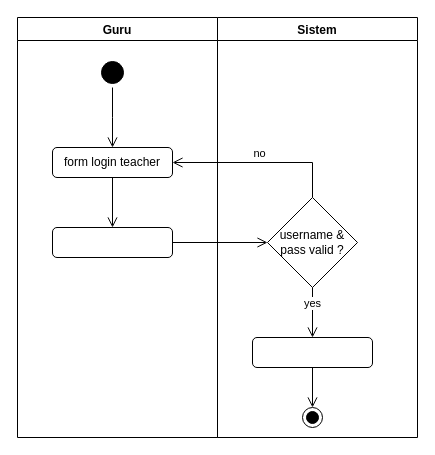
Some shapes in this 435 by 455 pixel diagram are drawn without their labels. Each missing label, with the centre of its shape:
"guru dashboard" goes at (312,352).
"isi username & password" goes at (112,242).
